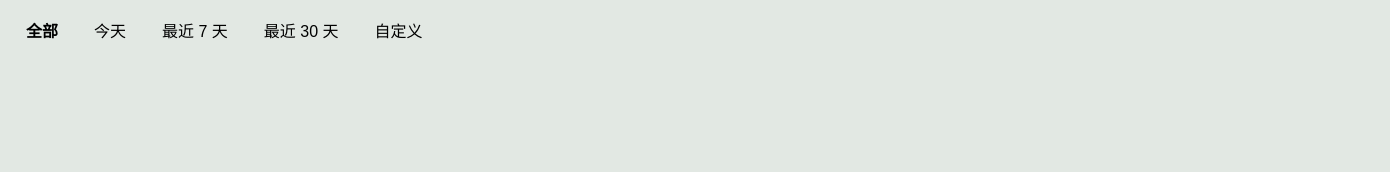
it: DateRange › applies presets in one tap and reveals exact dates only on 自定义
Click the button "最近 7 天". click: click(195, 30)
box: [148, 12, 242, 48]
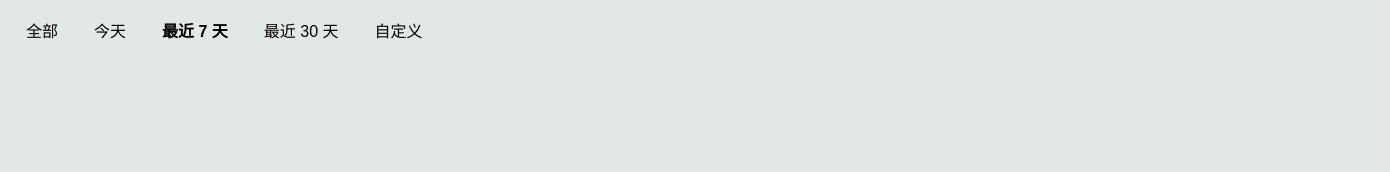
Now the button "最近 7 天" is pressed, box [148, 12, 242, 48]
Click the button "自定义". click: click(398, 30)
box: [360, 12, 436, 48]
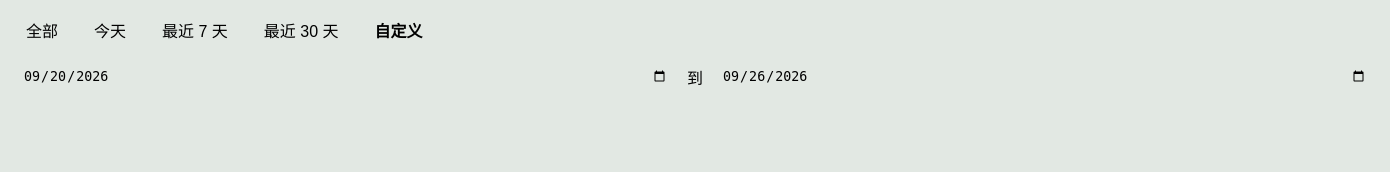
Now the number of date fields is 2, box [12, 58, 679, 96]; [711, 58, 1378, 96]
